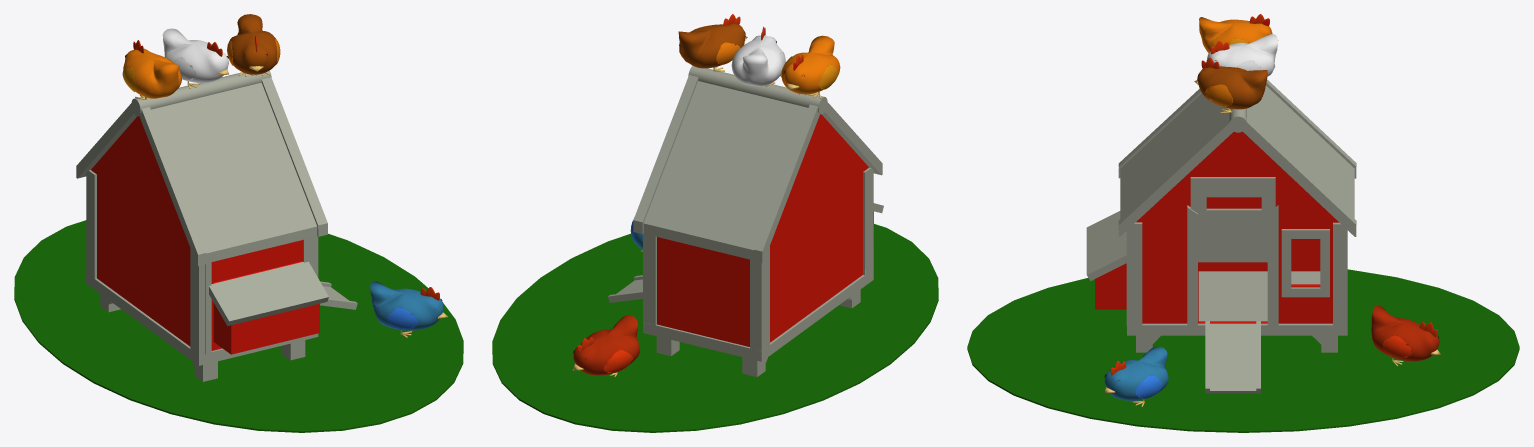
Rendered from galinheiro.gltf.
The picture shows the model from 3 angles, left to right: view 1: azimuth 30°, elevation 25°; view 2: azimuth 150°, elevation 25°; view 3: azimuth 270°, elevation 25°; orthographic projection. The views are drawn at different scales.
Visible parts, largest first — view 1: graminha, paredes, telhado, chao, galinha_azul, galinha_branca, galinha_laranja, galinha_marrom; view 2: graminha, paredes, telhado, chao, galinha_vermelha, galinha_marrom, galinha_laranja, galinha_branca; view 3: graminha, paredes, telhado, chao, galinha_vermelha, galinha_marrom, galinha_azul, galinha_branca, galinha_laranja.
Part boxes in pixels (x1,y1,x2,y2): graminha: (14, 220, 463, 432); paredes: (86, 116, 328, 355); telhado: (76, 70, 327, 266); chao: (86, 273, 357, 381); galinha_azul: (370, 281, 447, 337); galinha_branca: (162, 28, 229, 89); galinha_laranja: (122, 40, 181, 99); galinha_marrom: (227, 14, 280, 76); graminha: (492, 224, 938, 432); paredes: (643, 114, 883, 351); telhado: (633, 66, 882, 263); chao: (608, 269, 873, 376); galinha_vermelha: (572, 315, 639, 376); galinha_marrom: (678, 14, 747, 71); galinha_laranja: (780, 35, 840, 98); galinha_branca: (731, 26, 785, 86); graminha: (967, 269, 1519, 432); paredes: (1086, 131, 1347, 331); telhado: (1118, 79, 1356, 236); chao: (1127, 271, 1347, 393); galinha_vermelha: (1371, 305, 1440, 366); galinha_marrom: (1194, 57, 1267, 113); galinha_azul: (1104, 346, 1168, 406); galinha_branca: (1206, 34, 1277, 76); galinha_laranja: (1199, 14, 1278, 52).
Bounding box in the file's own units: 4.53 × 3.66 × 6.28.
